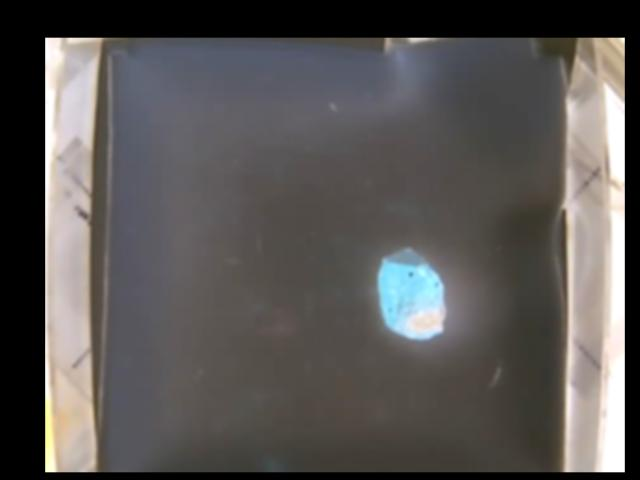Brisk: (379, 246, 446, 339)
